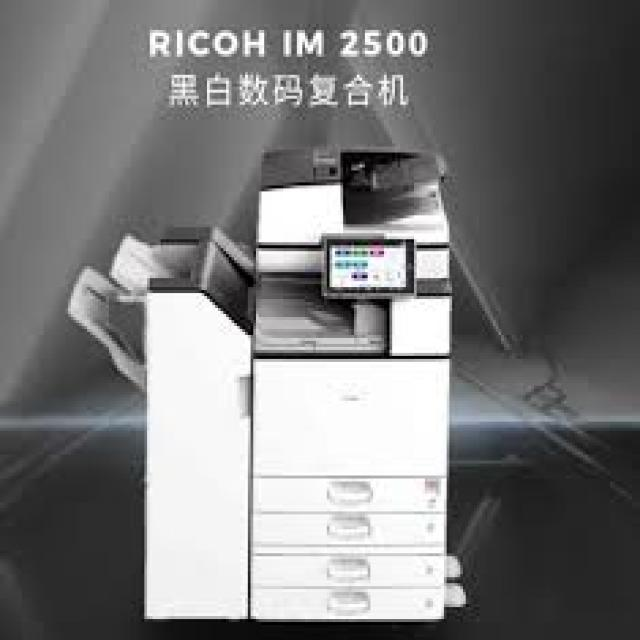printer: (61, 141, 472, 632)
